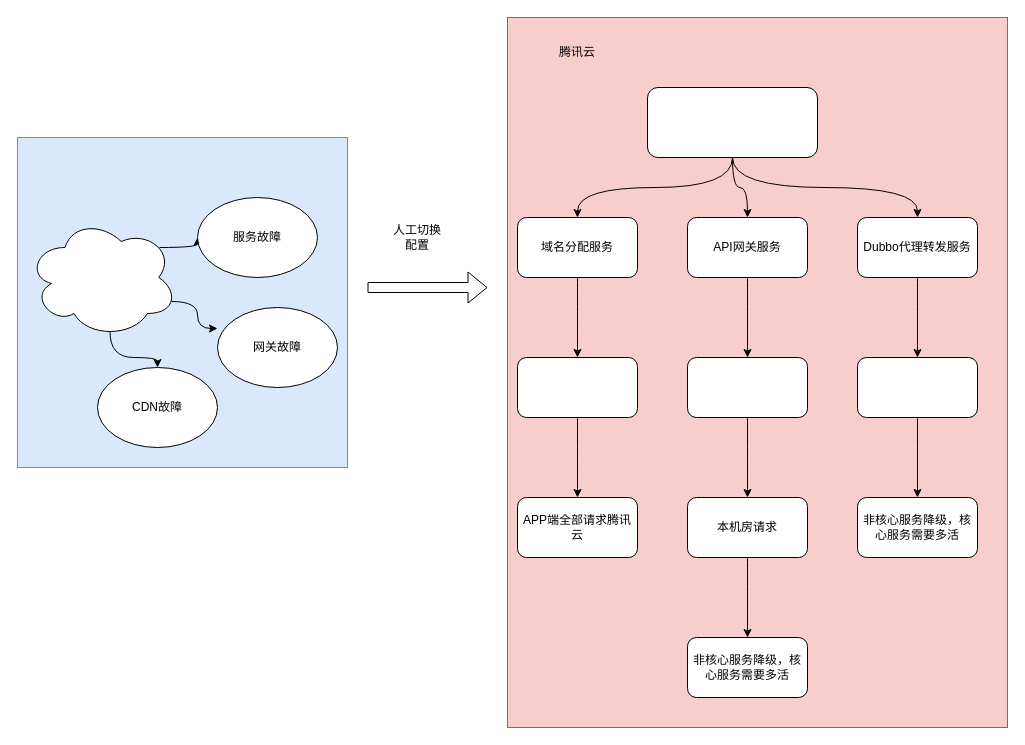
Some shapes in this 1025 by 745 pixel diagram are drawn without their labels. The centre of each missing label's shape, as x and y in pixels:
修改服务治理配置中心，设置阿里云zone不可用: point 732,122
设置阿里云不可用，域名全部返回腾讯云: point 577,387
设置阿里云不可用，如果本机房没有可用节点，不可转发请求阿里云: point 917,387
设置阿里云不可用，请求均不会转发到阿里云: point 747,387
阿里云故障不可用: point 102,277
